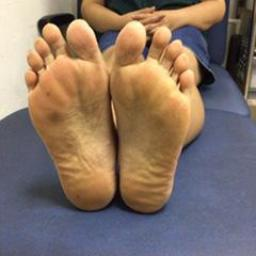Plantar View -Both Feet-: (16, 13, 207, 228)
